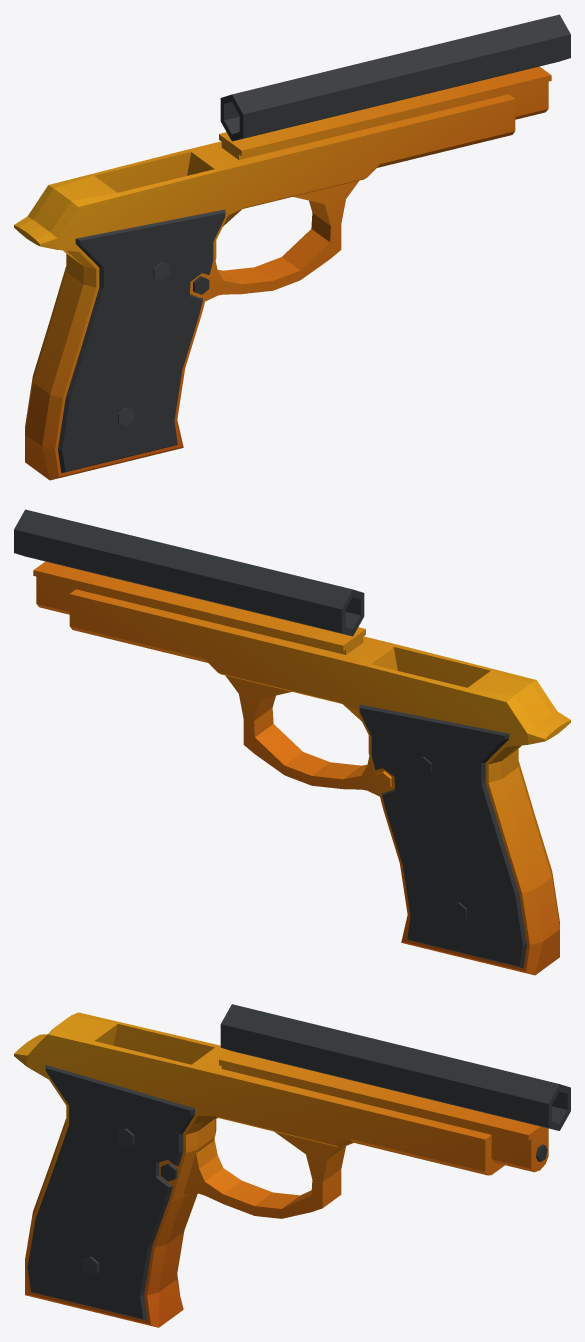
File: Pistol1_05.fbx
The picture shows the model from 3 angles, top to bottom: view 1: azimuth 30°, elevation 25°; view 2: azimuth 150°, elevation 25°; view 3: azimuth 330°, elevation 25°; orthographic projection.
Parts seen in each view (by area): view 1: Pistol1_05; view 2: Pistol1_05; view 3: Pistol1_05.
Part boxes in pixels (x1,y1,x2,y2): Pistol1_05: [14, 14, 570, 480]; Pistol1_05: [14, 509, 570, 975]; Pistol1_05: [14, 1004, 570, 1327].
Bounding box in the file's own units: 0.259 × 0.1531 × 0.031.
